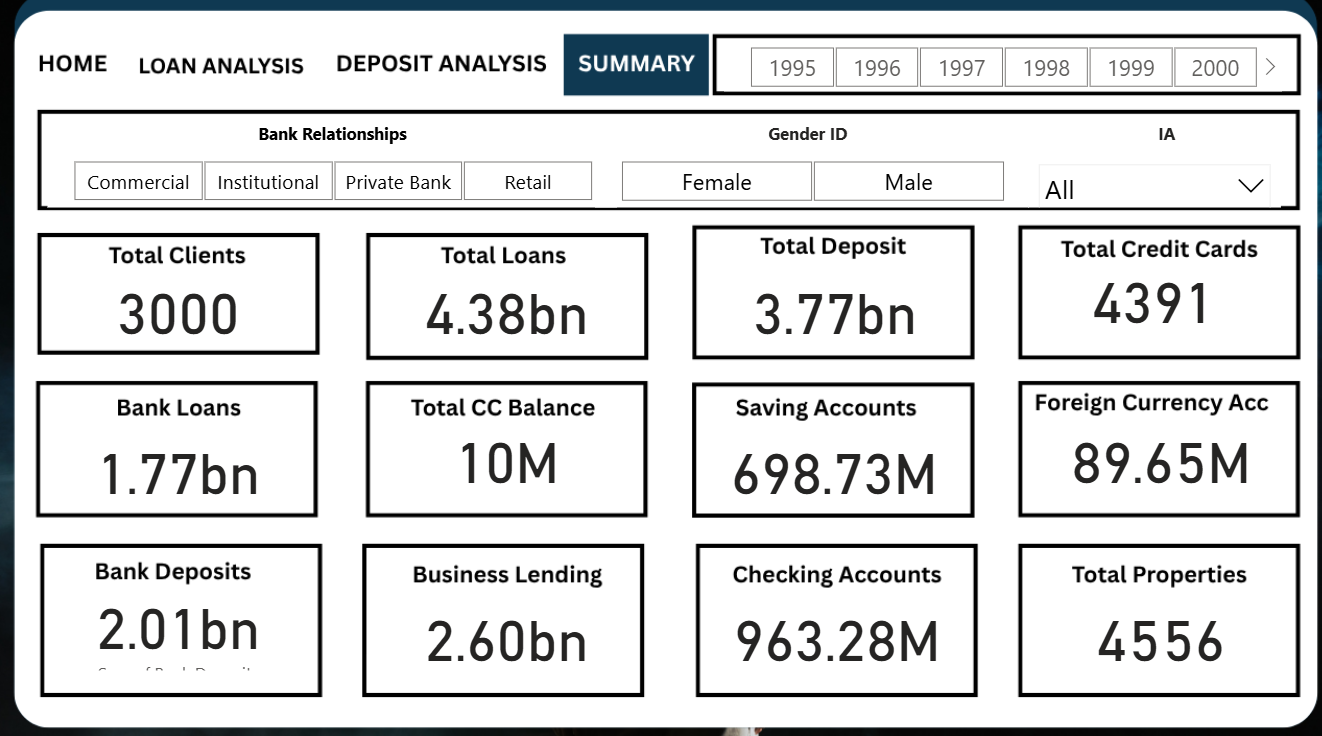

The dashboard page shown, as its layout file describes it:
{"tool":"powerbi","page":{"name":"Summary","canvas":[1280,720],"ordinal":4},"visuals":[{"type":"card","fields":{"Values":["CountNonNull(Banking_Clients.IAId)"]},"box":[46.9,268,249.8,68.1],"z":0},{"type":"card","fields":{"Values":["Banking_Clients.Total loan"]},"box":[361.9,268,249.8,68.1],"z":1000},{"type":"card","fields":{"Values":["Banking_Clients.Total Deposit"]},"box":[678.4,268,246.8,68.1],"z":2000},{"type":"card","fields":{"Values":["Banking_Clients.Total Credit Cards"]},"box":[1029.7,268,154.4,68.1],"z":3000},{"type":"card","fields":{"Values":["Sum(Banking_Clients.Bank Loans)"]},"box":[46.9,417.9,249.8,72.7],"z":4000},{"type":"card","fields":{"Values":["Banking_Clients.Total CC Balance"]},"box":[361.9,417.9,249.8,72.7],"z":5000},{"type":"card","fields":{"Values":["Sum(Banking_Clients.Saving Accounts)"]},"box":[675.3,417.9,249.8,72.7],"z":6000},{"type":"card","fields":{"Values":["Sum(Banking_Clients.Foreign Currency Account)"]},"box":[997.9,417.9,233.2,72.7],"z":7000},{"type":"card","fields":{"Values":["Sum(Banking_Clients.Bank Deposits)"]},"box":[46.9,573.9,249.8,81.8],"z":8000},{"type":"card","fields":{"Values":["Sum(Banking_Clients.Business Lending)"]},"box":[361.9,573.9,249.8,81.8],"z":9000},{"type":"card","fields":{"Values":["Sum(Banking_Clients.Checking Accounts)"]},"box":[678.4,573.9,249.8,81.8],"z":10000},{"type":"card","fields":{"Values":["Sum(Banking_Clients.Properties Owned)"]},"box":[988.8,573.9,249.8,81.8],"z":11000},{"type":"slicer","fields":{"Values":["Banking_Clients.Joined Bank.Variation.Date Hierarchy.Year"]},"box":[695.4,45.4,534.8,49.1],"z":12000},{"type":"slicer","fields":{"Values":["Banking_Clients.BRId"]},"box":[47.2,155,546.1,51],"z":13000},{"type":"slicer","fields":{"Values":["Banking_Clients.GenderId"]},"box":[572.6,155,415.8,51],"z":14000},{"type":"slicer","fields":{"Values":["Banking_Clients.IAId"]},"box":[988.4,155,241.9,51],"z":15000},{"type":"textbox","box":[243.8,119.1,156.9,35.9],"z":16000},{"type":"textbox","box":[733.2,119.1,194.6,35.9],"z":17000},{"type":"textbox","box":[1107.4,119.1,107.7,35.9],"z":18000},{"type":"actionButton","box":[20.8,45.4,109.6,45.4],"z":19000},{"type":"actionButton","box":[130.4,45.4,166.3,49.1],"z":20000},{"type":"actionButton","box":[313.7,51,217.3,39.7],"z":21000}]}

Visuals, with their boxes in screenshot pixels (x1, y1, x2, y2), scaled from the page's 1280x720 canvas onto the 1322x736 screenshot:
card - CountNonNull(Banking_Clients.IAId): l=48, t=274, r=306, b=344
card - Banking_Clients.Total loan: l=374, t=274, r=632, b=344
card - Banking_Clients.Total Deposit: l=701, t=274, r=956, b=344
card - Banking_Clients.Total Credit Cards: l=1063, t=274, r=1223, b=344
card - Sum(Banking_Clients.Bank Loans): l=48, t=427, r=306, b=502
card - Banking_Clients.Total CC Balance: l=374, t=427, r=632, b=502
card - Sum(Banking_Clients.Saving Accounts): l=697, t=427, r=955, b=502
card - Sum(Banking_Clients.Foreign Currency Account): l=1031, t=427, r=1271, b=502
card - Sum(Banking_Clients.Bank Deposits): l=48, t=587, r=306, b=670
card - Sum(Banking_Clients.Business Lending): l=374, t=587, r=632, b=670
card - Sum(Banking_Clients.Checking Accounts): l=701, t=587, r=959, b=670
card - Sum(Banking_Clients.Properties Owned): l=1021, t=587, r=1279, b=670
slicer - Banking_Clients.Joined Bank.Variation.Date Hierarchy.Year: l=718, t=46, r=1271, b=97
slicer - Banking_Clients.BRId: l=49, t=158, r=613, b=211
slicer - Banking_Clients.GenderId: l=591, t=158, r=1021, b=211
slicer - Banking_Clients.IAId: l=1021, t=158, r=1271, b=211
textbox: l=252, t=122, r=414, b=158
textbox: l=757, t=122, r=958, b=158
textbox: l=1144, t=122, r=1255, b=158
actionButton: l=21, t=46, r=135, b=93
actionButton: l=135, t=46, r=306, b=97
actionButton: l=324, t=52, r=548, b=93
